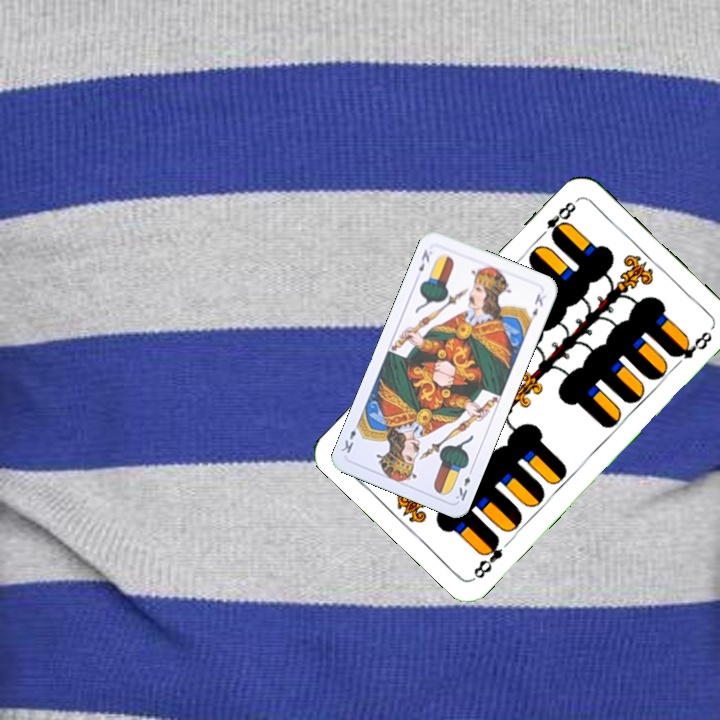E8: (534, 197, 579, 243), (469, 532, 506, 582)
EK: (451, 464, 476, 504), (414, 245, 432, 274)
